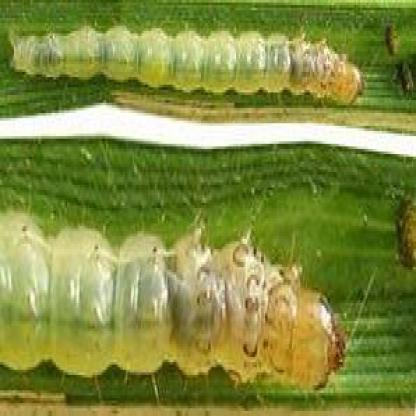leaf-folder: (20, 198, 352, 398), (11, 16, 370, 120)
